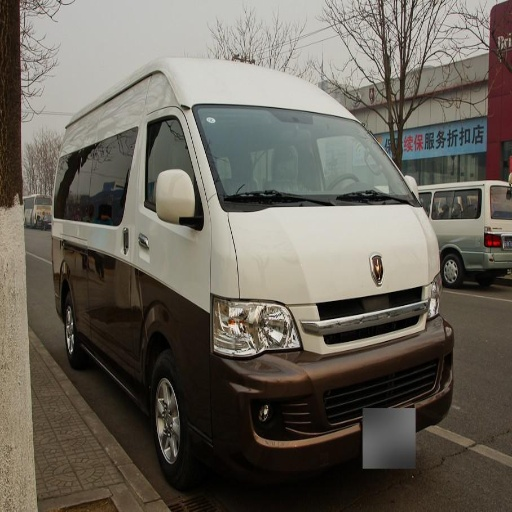front_bumper: (183, 283, 454, 466)
front_glass: (193, 106, 413, 210)
front_right_door: (101, 88, 209, 360)
front_right_light: (214, 301, 300, 358)
hood: (230, 205, 438, 304)
